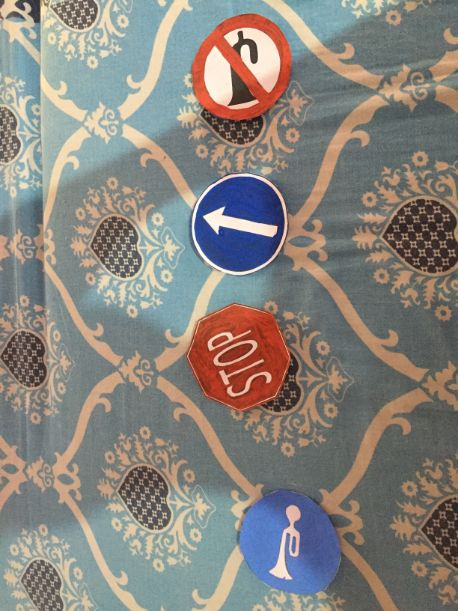blow-horn: (236, 491, 343, 598), (194, 17, 298, 121)
go-stright: (192, 173, 296, 277)
stop: (186, 302, 294, 410)
